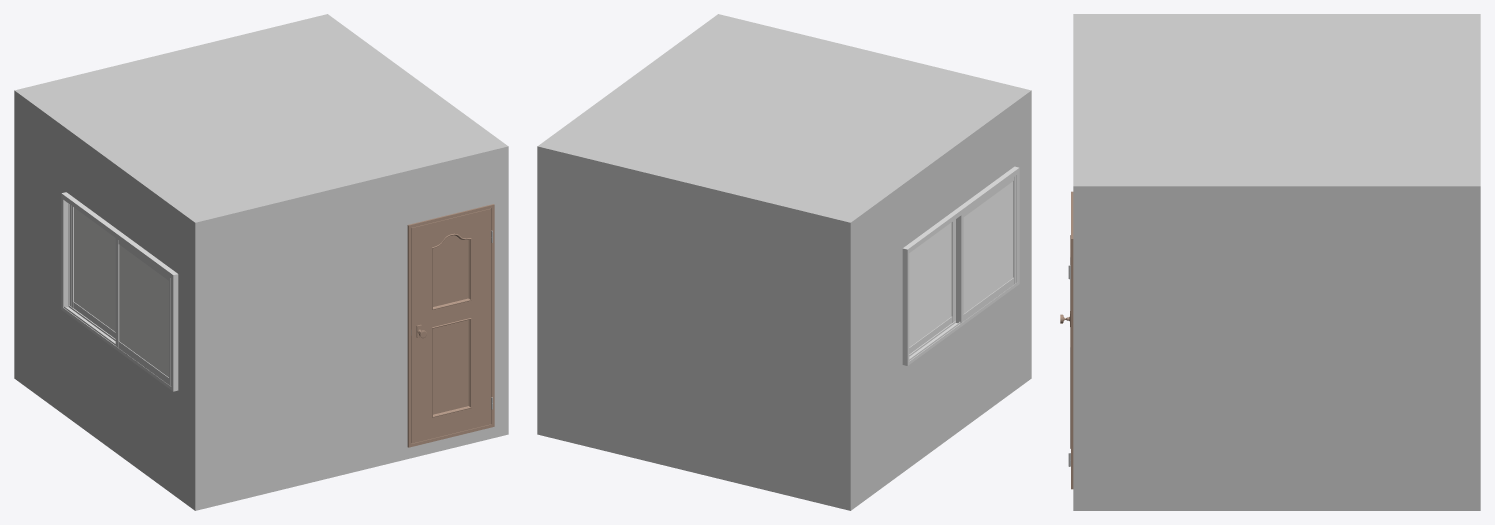
3 renders of one model, left to right at view 1: azimuth 30°, elevation 25°; view 2: azimuth 150°, elevation 25°; view 3: azimuth 270°, elevation 25°, orthographic. The views are drawn at different scales.
Visible parts, largest first — view 1: 南壁, 天井, 西壁, 戸, 左.001, 右.001, 北壁, 東壁; view 2: 北壁, 天井, 西壁, 左.001, 右.001, 南壁, 東壁; view 3: 東壁, 天井, 南壁, 北壁, 西壁.
Part boxes in pixels (x1,y1,x2,y2): 南壁: [192, 144, 508, 510]; 天井: [24, 18, 498, 218]; 西壁: [17, 91, 197, 508]; 戸: [411, 208, 492, 443]; 左.001: [115, 238, 171, 386]; 右.001: [69, 204, 115, 338]; 北壁: [14, 14, 330, 380]; 東壁: [325, 16, 504, 145]; 北壁: [537, 144, 853, 510]; 天井: [547, 18, 1021, 218]; 西壁: [848, 91, 1028, 508]; 左.001: [956, 174, 1017, 323]; 右.001: [909, 219, 955, 353]; 南壁: [715, 14, 1031, 380]; 東壁: [541, 16, 720, 145]; 東壁: [1080, 183, 1473, 510]; 天井: [1080, 17, 1473, 182]; 南壁: [1068, 14, 1080, 510]; 北壁: [1473, 14, 1480, 510]; 西壁: [1080, 14, 1473, 16].
Bounding box in the file's own units: 2.77 × 2.4 × 2.82.
